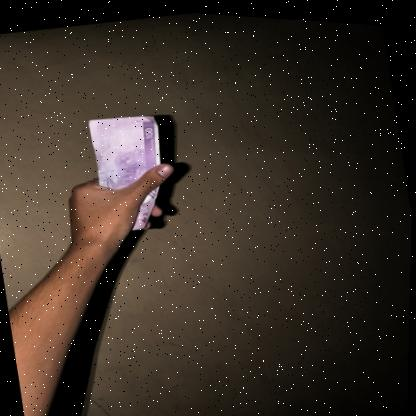one_hundred-back-vef: (85, 106, 176, 235)
